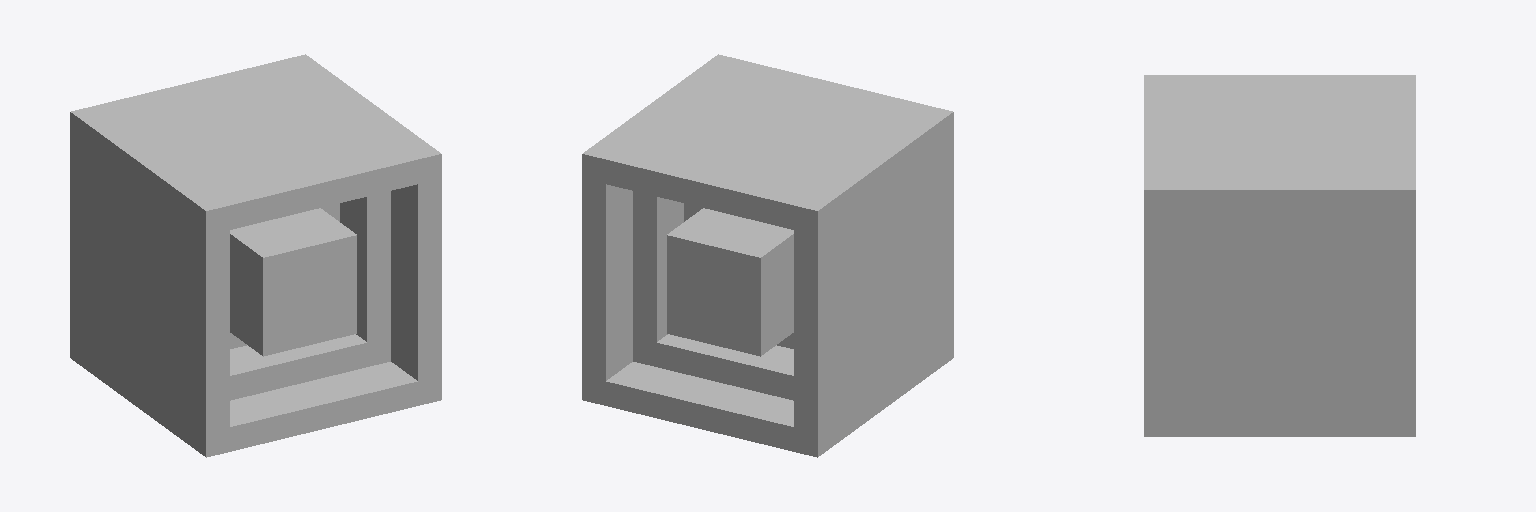
Rendered from door_cube.obj.
3 renders of one model, left to right at view 1: azimuth 30°, elevation 25°; view 2: azimuth 150°, elevation 25°; view 3: azimuth 270°, elevation 25°, orthographic.
Parts seen in each view (by area): view 1: door_cube; view 2: door_cube; view 3: door_cube.
Boxes of the visible parts, box(x1,y1,x2,y2) form: door_cube: box(70, 54, 441, 457); door_cube: box(582, 54, 953, 457); door_cube: box(1144, 75, 1415, 436).
Bounding box in the file's own units: 10 × 10 × 10.